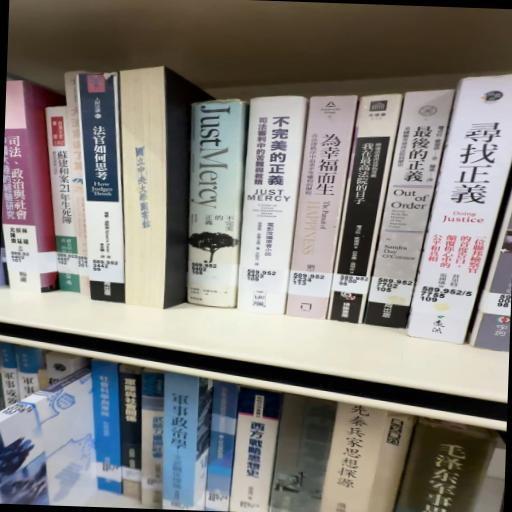backward: (110, 62, 212, 312)
book: (407, 72, 512, 346), (360, 86, 452, 336), (330, 94, 404, 324), (64, 72, 134, 308), (236, 96, 310, 317), (289, 95, 361, 322), (188, 92, 252, 306), (35, 110, 93, 304)
